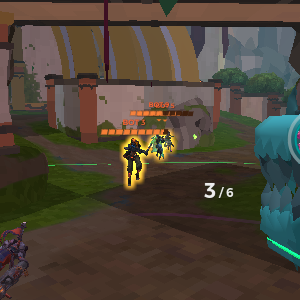model: (123, 137, 143, 184), (151, 133, 163, 163), (167, 127, 175, 153)
